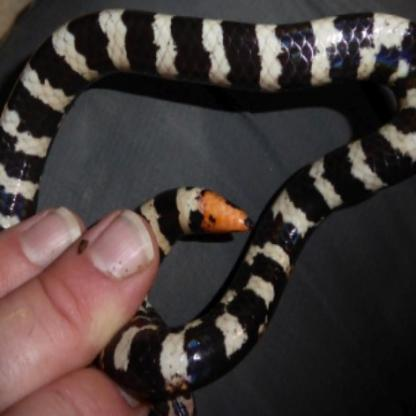snakes: (6, 1, 416, 387)
